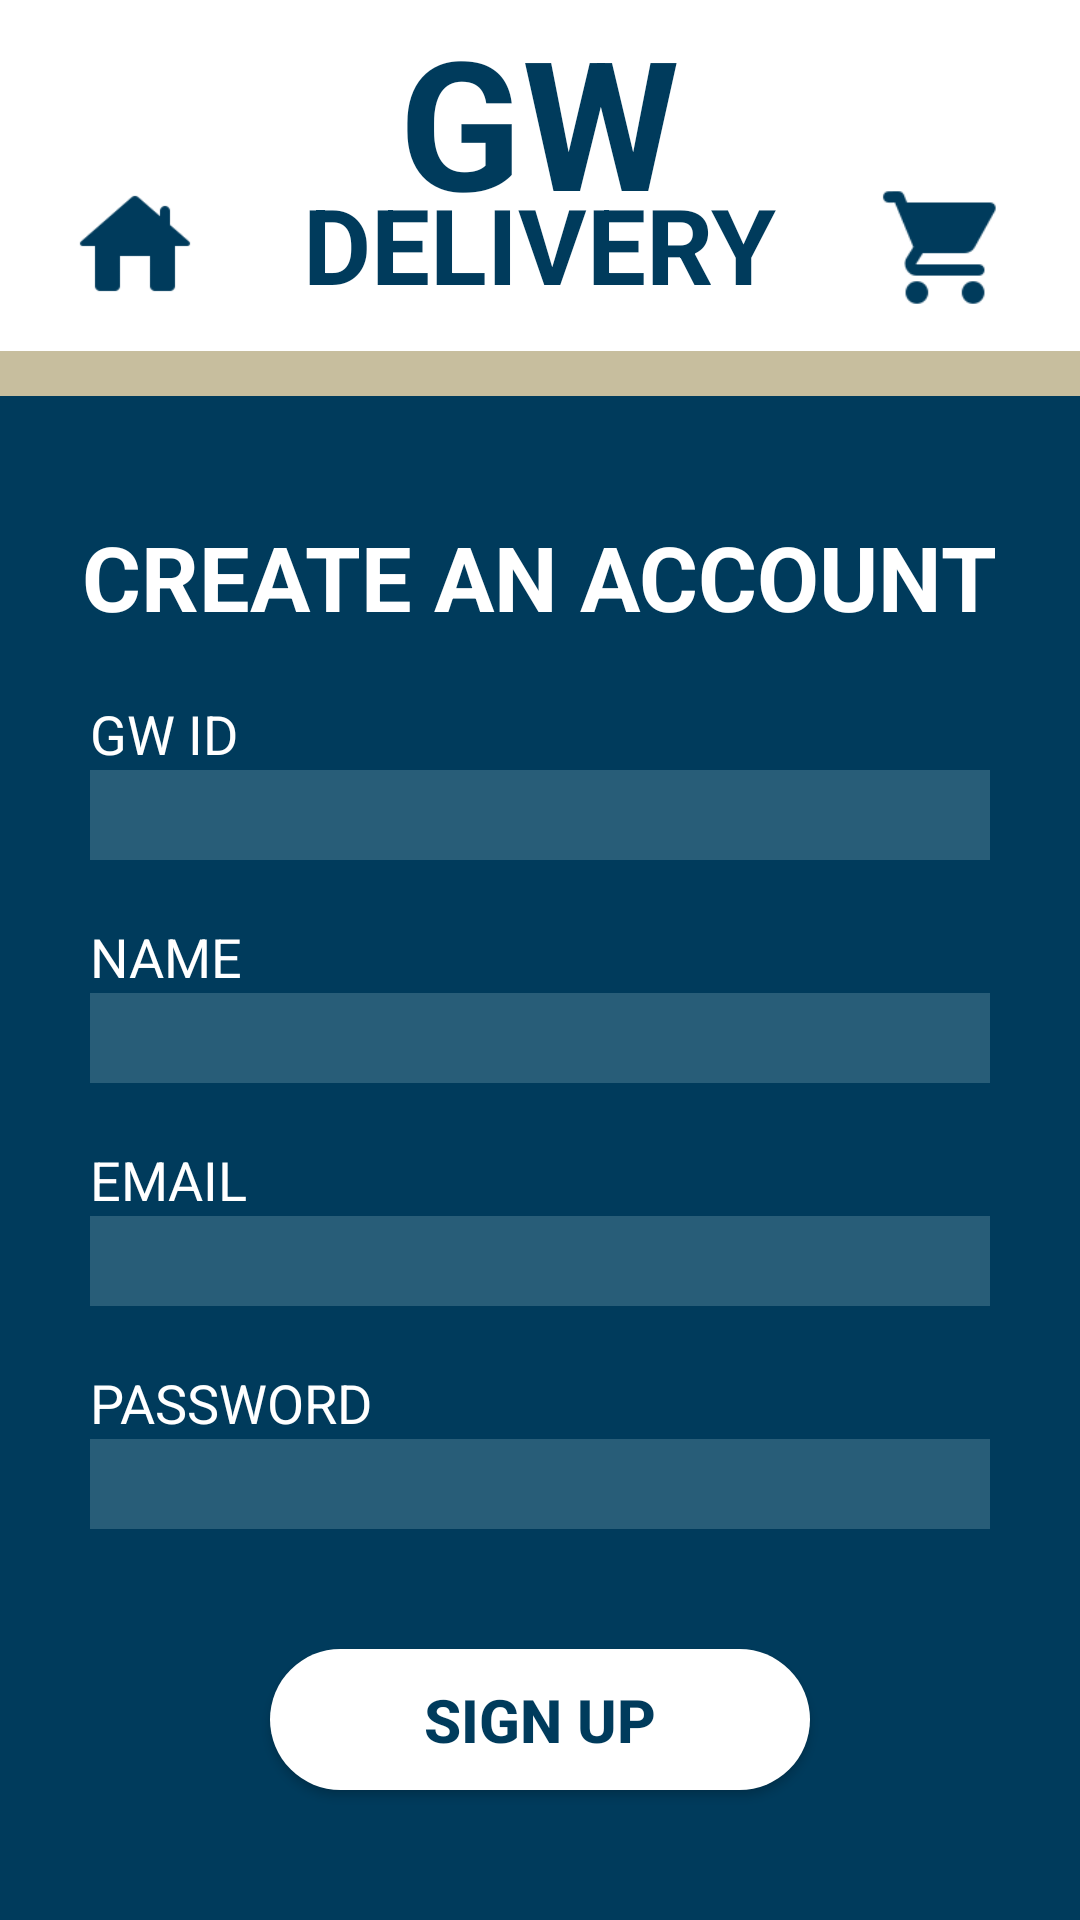

Named icons in this screenshot (1080px×1920px) and their bounding boxes, (x1, y1, x2, y2):
home: (80, 196, 190, 292)
shopping cart: (883, 191, 996, 304)
